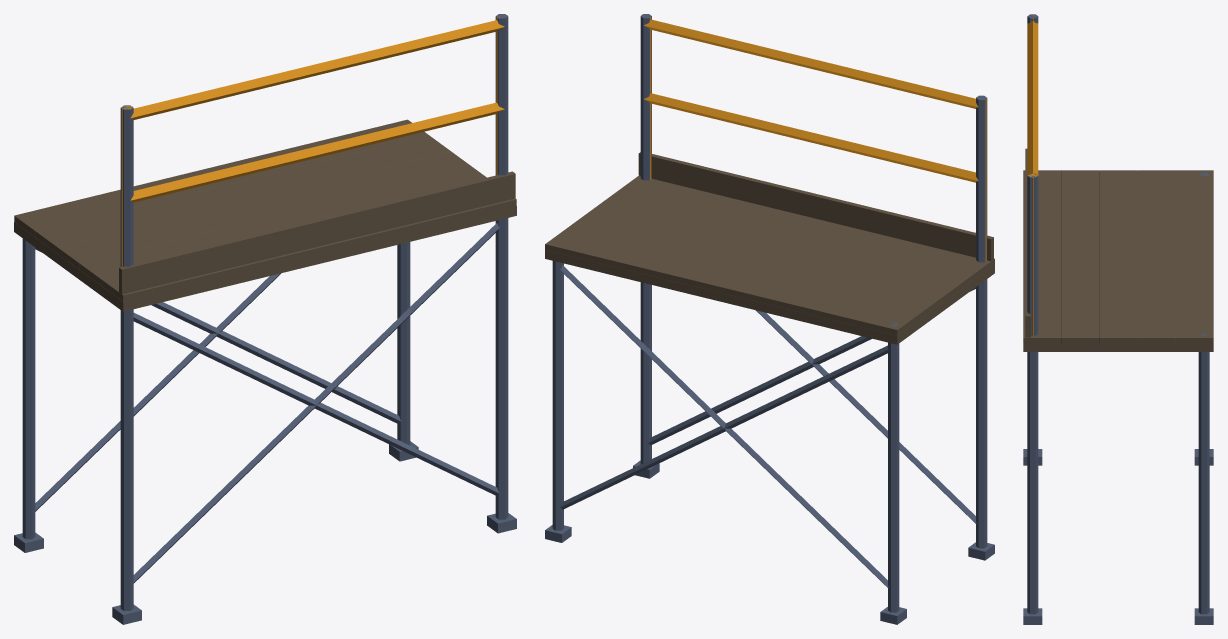
Rendered from build_scaffold_bay.glb.
3 renders of one model, left to right at view 1: azimuth 30°, elevation 25°; view 2: azimuth 150°, elevation 25°; view 3: azimuth 270°, elevation 25°, orthographic. The views are drawn at different scales.
Visible parts, largest first — view 1: formwork_plywood, metal, hivis; view 2: formwork_plywood, metal, hivis; view 3: formwork_plywood, metal, hivis.
Part boxes in pixels (left/top/right/bottom): formwork_plywood: left=14, top=119, right=516, bottom=311; metal: left=14, top=14, right=516, bottom=624; hivis: left=121, top=15, right=507, bottom=266; formwork_plywood: left=545, top=152, right=994, bottom=344; metal: left=545, top=14, right=994, bottom=624; hivis: left=643, top=17, right=986, bottom=261; formwork_plywood: left=1023, top=148, right=1213, bottom=351; metal: left=1023, top=14, right=1213, bottom=624; hivis: left=1027, top=14, right=1038, bottom=335.
Size of the model in its own units: 2.5 by 3.1 by 1.2.
